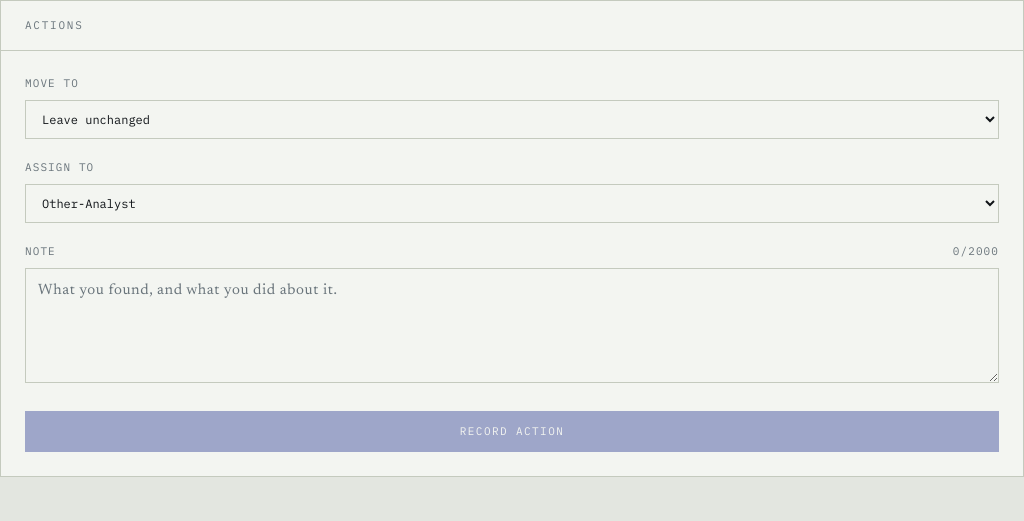
Test: AlertActions request body › shows a rejected assignee under the picker, not as a toast
The width and height of the screenshot is (1024, 521).
Select "Analyst" in the dropdown labelled "Assign to" at (512, 204), box [25,184,999,223]
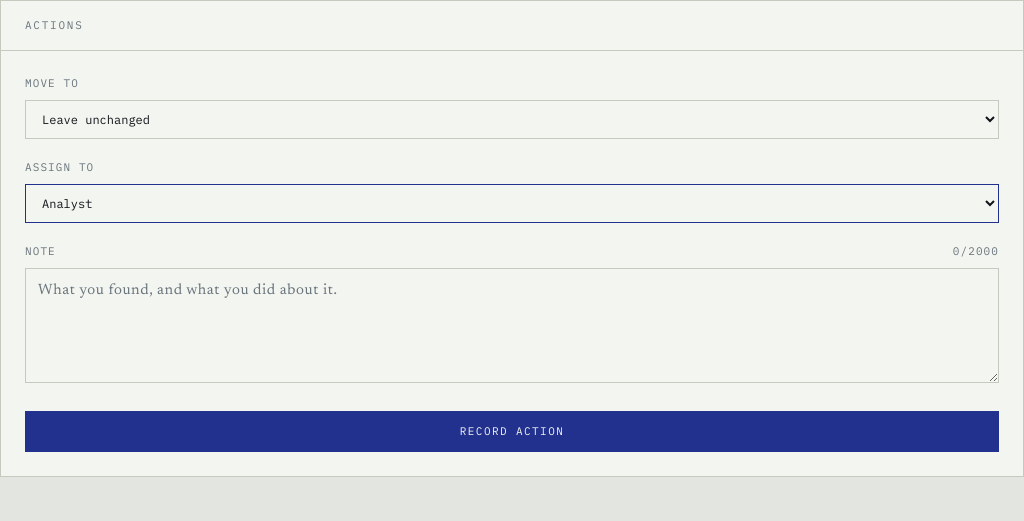
Click the button "Record action" at (512, 432), box [25,411,999,452]
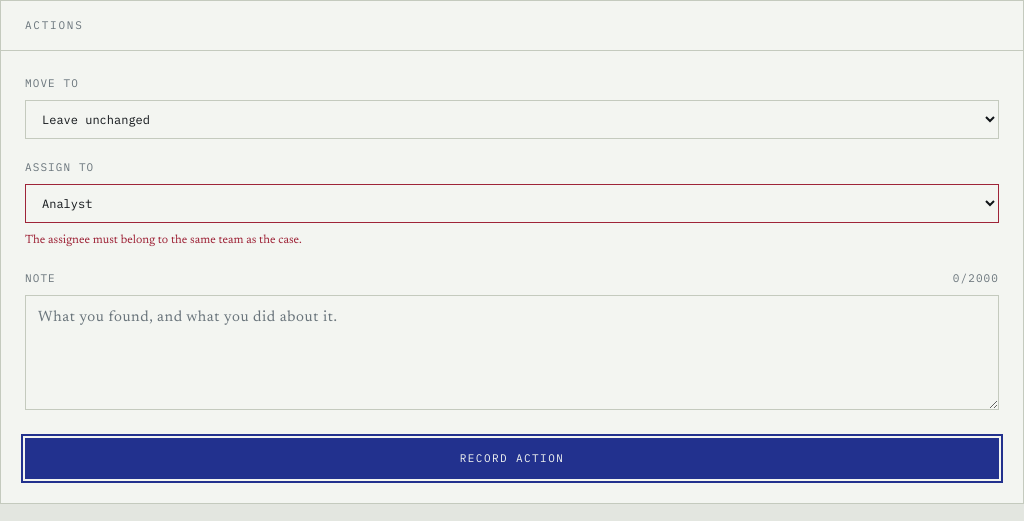
Now the message reads "The assignee must belong to the same team as the case.", box [25,234,302,246]
Now the text "The assignee must belong to the same team as the case." is shown once, box [25,234,302,246]
